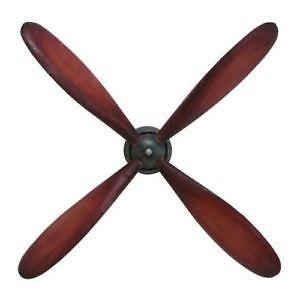Propeller: (14, 10, 282, 285)
